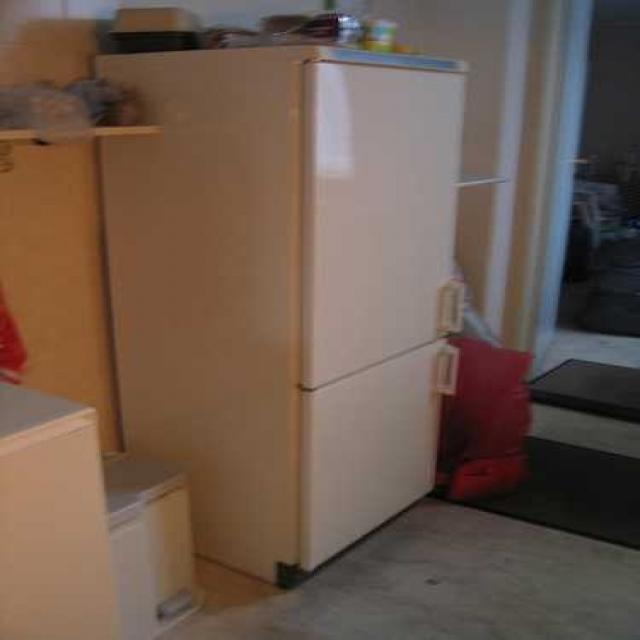refrigerator: (289, 42, 467, 584)
